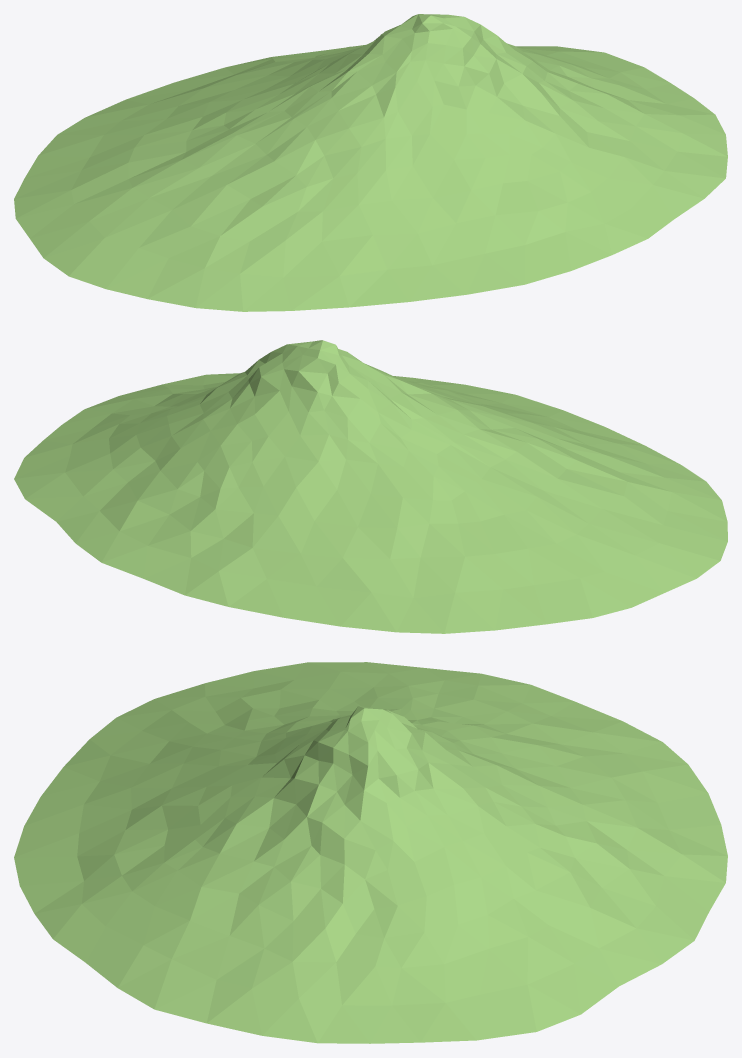
The model's file is GroundLump_03.fbx.
3 views of the same model, one above another, from view 1: azimuth 30°, elevation 25°; view 2: azimuth 150°, elevation 25°; view 3: azimuth 270°, elevation 25° (orthographic). The views are drawn at different scales.
Visible parts, largest first — view 1: GroundLump1.002; view 2: GroundLump1.002; view 3: GroundLump1.002.
Part boxes in pixels (bbox=[...]): GroundLump1.002: bbox=[14, 14, 727, 311]; GroundLump1.002: bbox=[14, 340, 727, 633]; GroundLump1.002: bbox=[14, 662, 727, 1043].
Bounding box in the file's own units: 12092 × 2655 × 9560.
